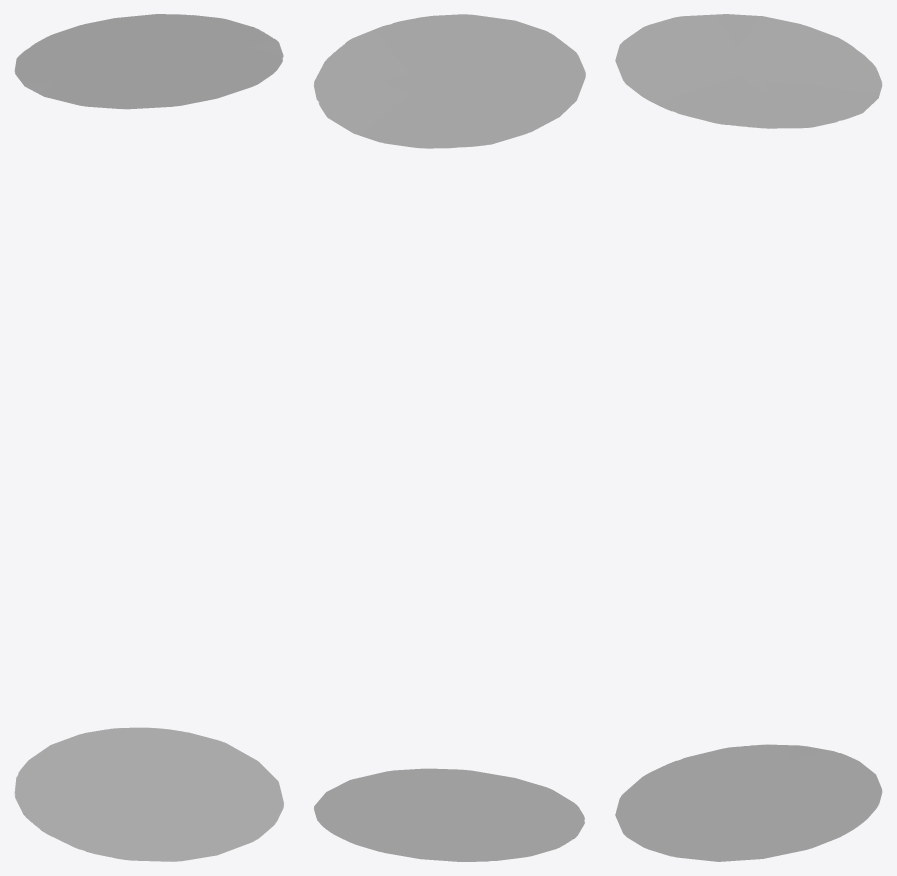
File: HeadPitch_0.obj
3 views of the same model, side by side, from view 1: azimuth 30°, elevation 25°; view 2: azimuth 150°, elevation 25°; view 3: azimuth 270°, elevation 25° (orthographic).
Size of the model in its own units: 0.0581 by 0.18 by 0.0579.
Materials: 1 (1 with a texture image).
